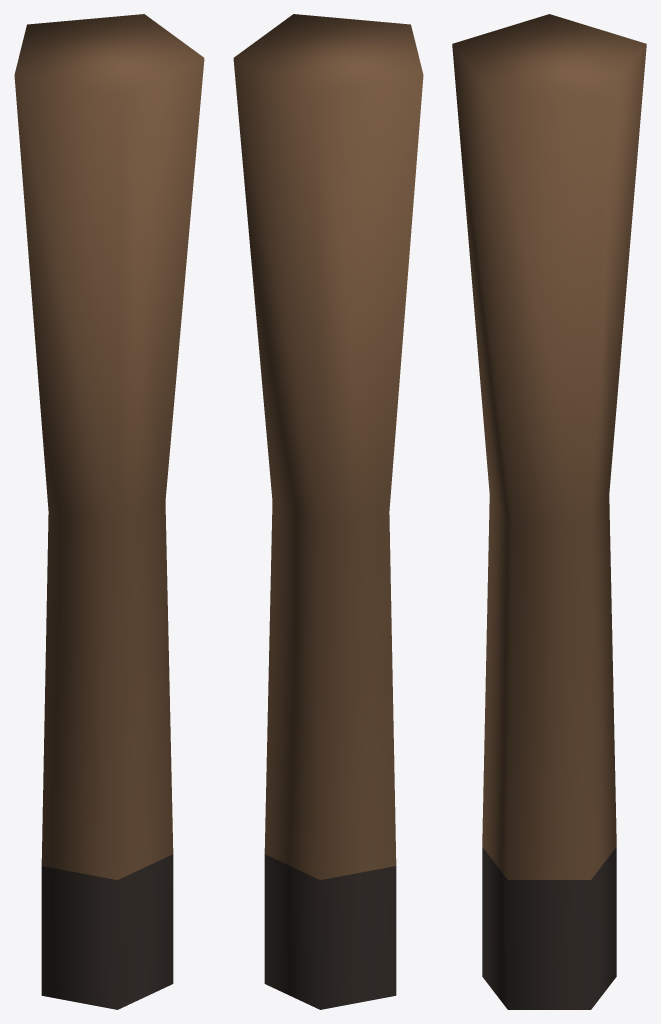
File: animal_elk_leg.obj
3 renders of one model, left to right at view 1: azimuth 30°, elevation 25°; view 2: azimuth 150°, elevation 25°; view 3: azimuth 270°, elevation 25°, orthographic.
Parts seen in each view (by area): view 1: animal_elk_leg; view 2: animal_elk_leg; view 3: animal_elk_leg.
Boxes of the visible parts, left/top/right/bottom form: animal_elk_leg: left=14, top=14, right=204, bottom=1009; animal_elk_leg: left=233, top=14, right=423, bottom=1009; animal_elk_leg: left=452, top=14, right=646, bottom=1009.
Bounding box in the file's own units: 0.1188 × 0.6579 × 0.125.
